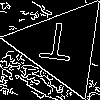T: (37, 21, 76, 71)
